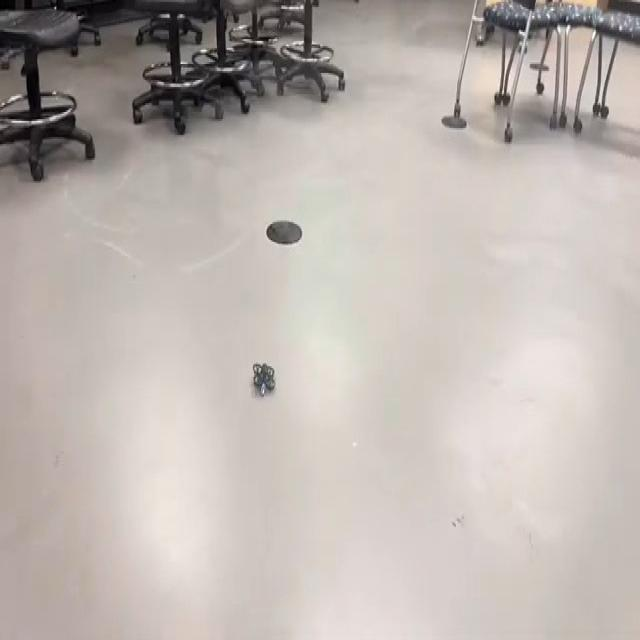drone: (240, 348, 281, 407)
